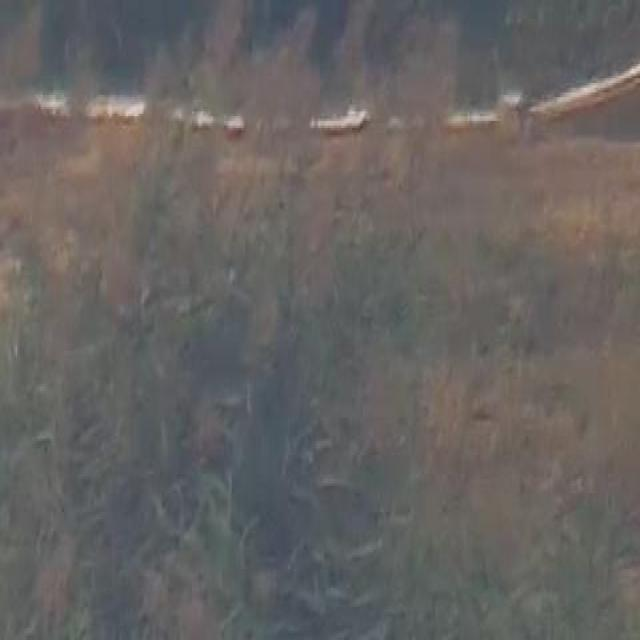other: (395, 92, 619, 271)
